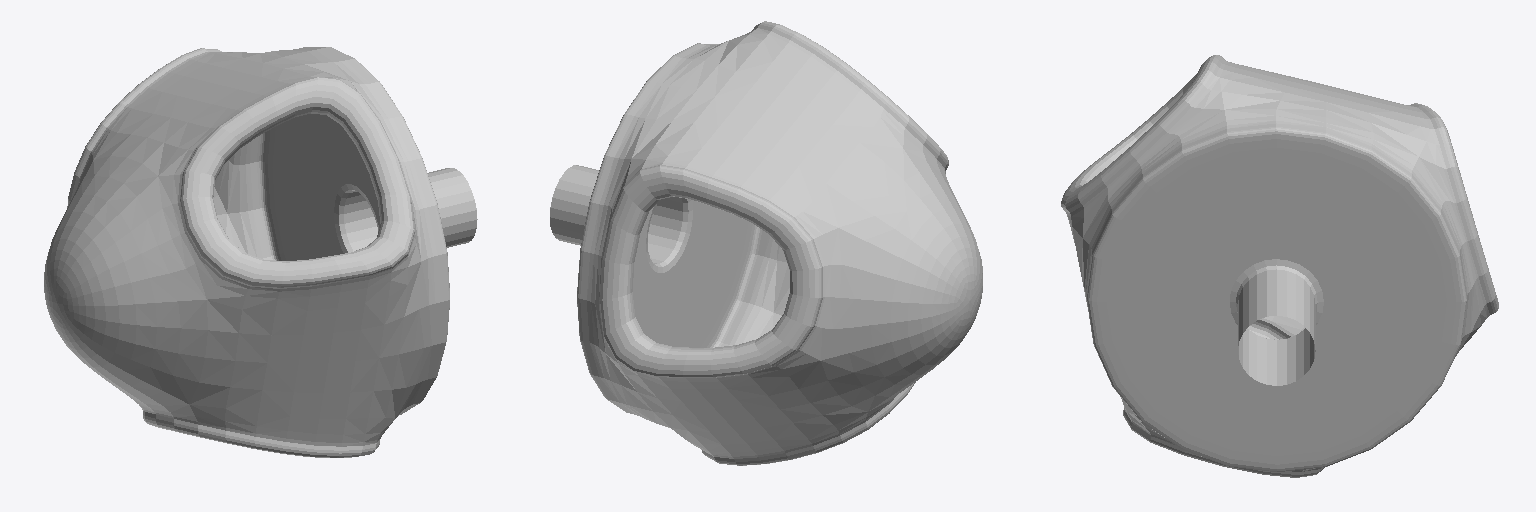
Rendered from Holder.obj.
The picture shows the model from 3 angles: view 1: azimuth 30°, elevation 25°; view 2: azimuth 150°, elevation 25°; view 3: azimuth 270°, elevation 25°; orthographic projection.
Parts seen in each view (by area): view 1: axis_Circle.003; view 2: axis_Circle.003; view 3: axis_Circle.003.
Part boxes in pixels (x1,y1,x2,y2): axis_Circle.003: (44, 47, 477, 457); axis_Circle.003: (550, 21, 982, 465); axis_Circle.003: (1061, 55, 1498, 477).
Bounding box in the file's own units: 2.05 × 1.94 × 1.94.